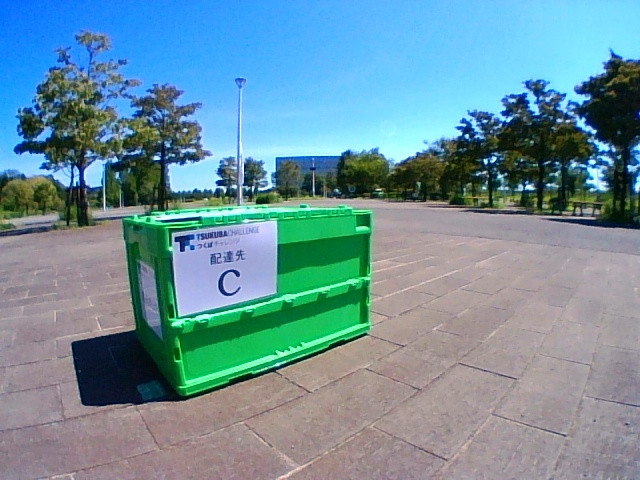green_box: (123, 203, 373, 396)
tag_c: (187, 232, 276, 296)
